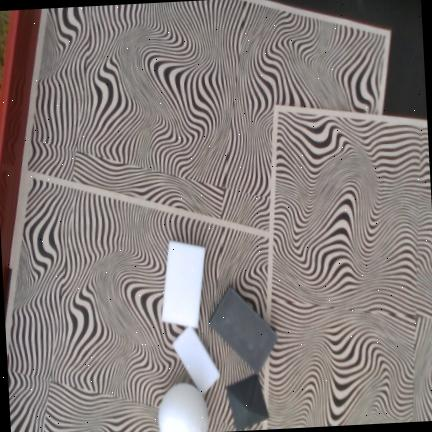Esfera: (158, 384, 209, 432)
Paralelepipedo: (207, 286, 280, 375), (162, 239, 205, 329), (172, 326, 220, 395)
Piramide: (226, 374, 269, 431)
